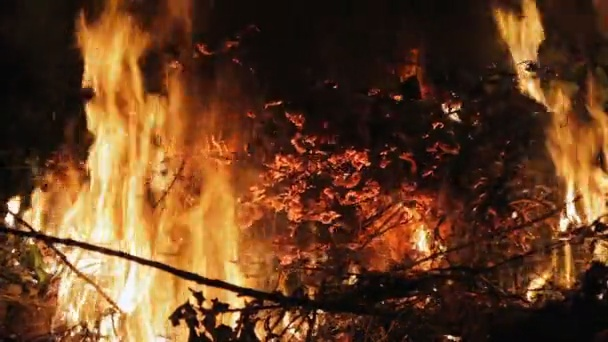fire: (51, 2, 236, 339), (495, 1, 608, 224)
